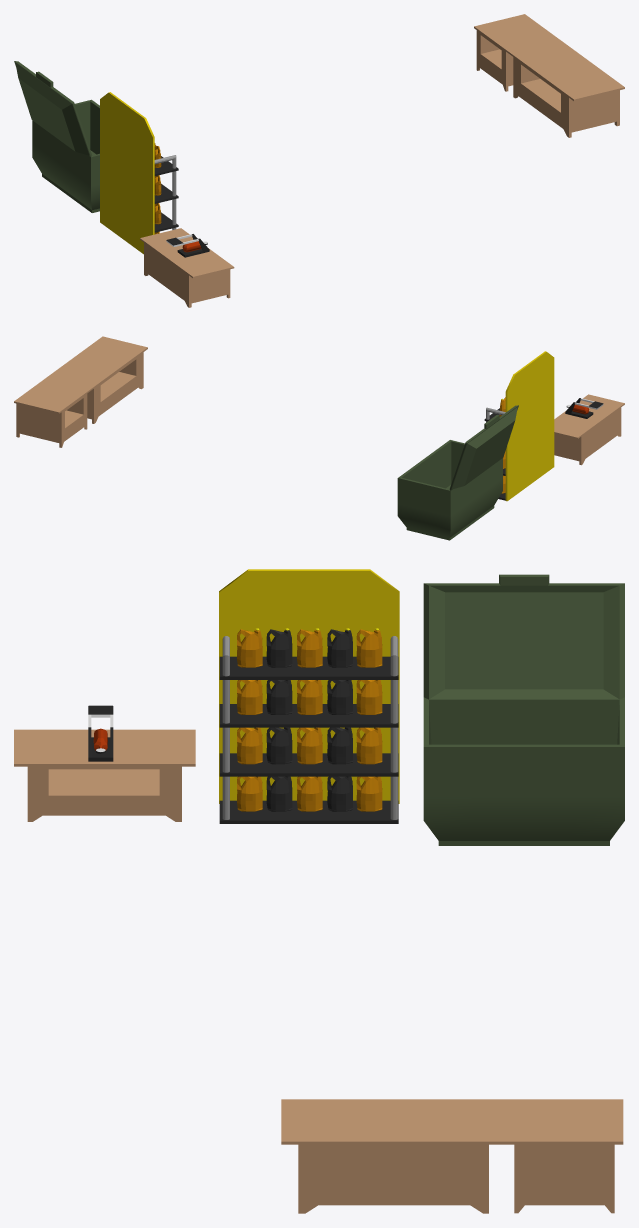
The model's file is items.fbx.
3 views of the same model, one above another, from view 1: azimuth 30°, elevation 25°; view 2: azimuth 150°, elevation 25°; view 3: azimuth 270°, elevation 25° (orthographic). The views are drawn at different scales.
Visible parts, largest first — view 1: polySurface40; view 2: polySurface40; view 3: polySurface40.
Boxes of the visible parts, x1,y1,x2,y2 form: polySurface40: [14, 14, 624, 307]; polySurface40: [14, 336, 624, 540]; polySurface40: [14, 569, 624, 1213].
Size of the model in its own units: 55.94 by 14.28 by 33.67.
